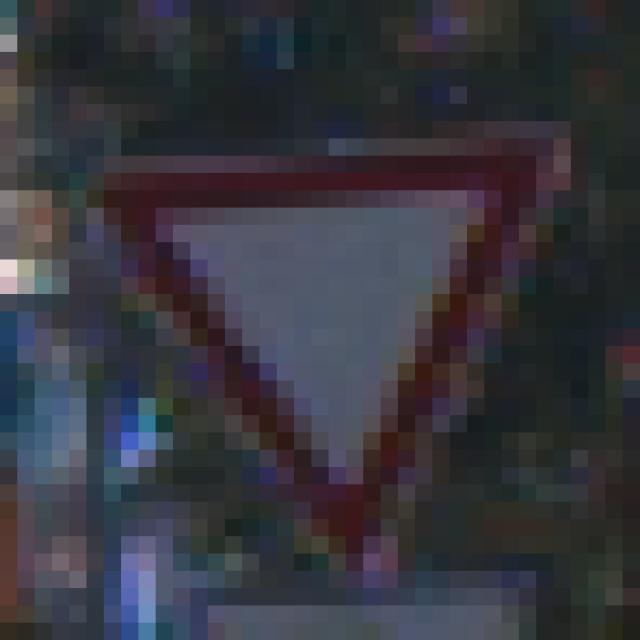Give Way: (88, 105, 555, 554)
